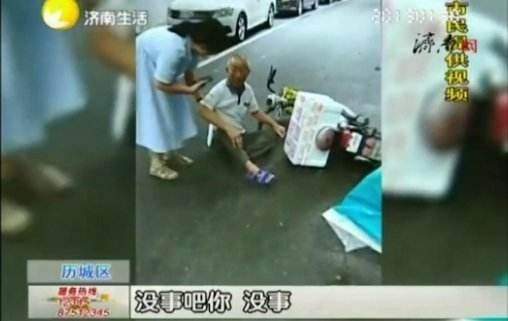falling: (197, 56, 290, 184)
